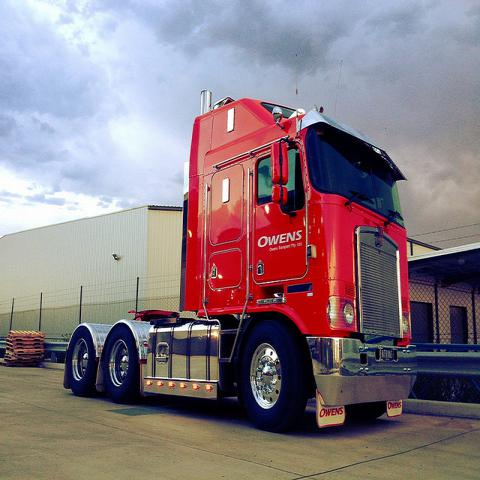truck: (56, 91, 422, 438)
